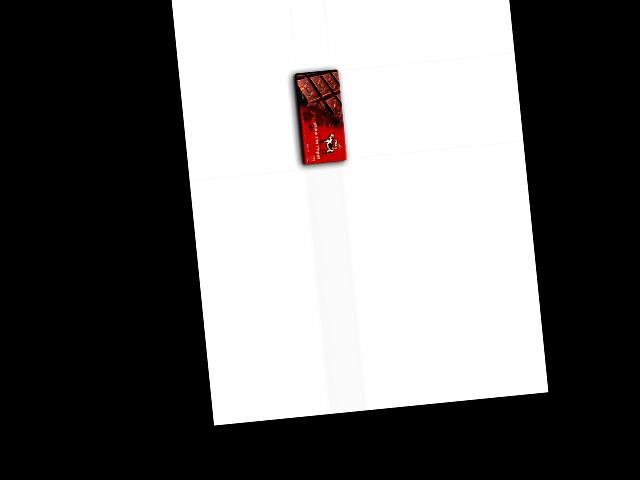chocolate: (291, 67, 349, 167)
